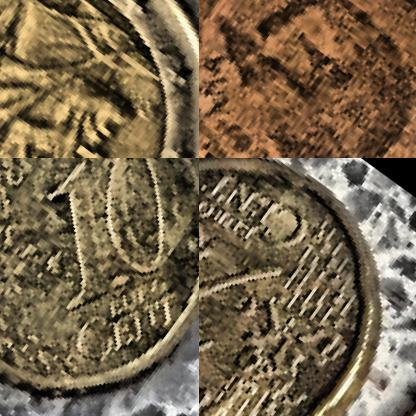coin: (199, 158, 415, 415), (0, 158, 198, 415), (199, 0, 415, 157), (0, 0, 198, 157)
